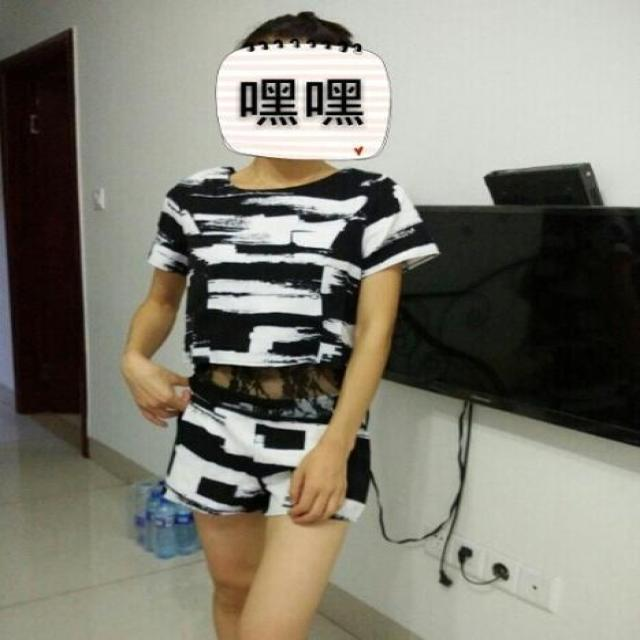short-sleeve-top: (137, 160, 460, 375)
shorts: (142, 393, 412, 542)
